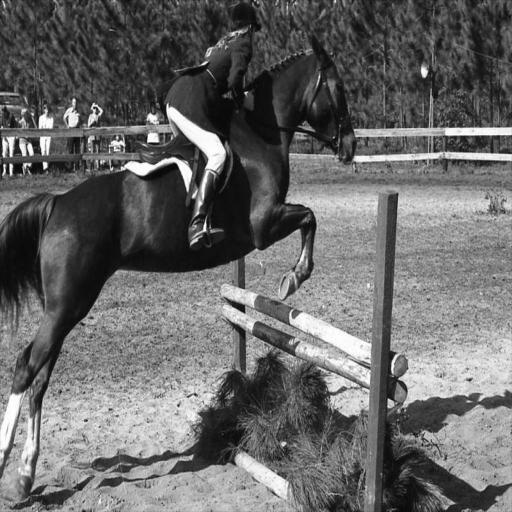horse: (0, 28, 360, 504)
